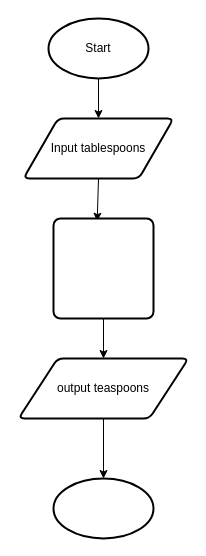
Some shapes in this 206 by 556 pixel diagram are drawn without their labels. The box of each missing label's shape, as (x1, y1, x2, y2) in pixels:
stop: (52, 477, 154, 539)
teaspoons = tablespoons / 3: (52, 217, 154, 319)
